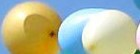Balloon: (3, 2, 60, 54)
